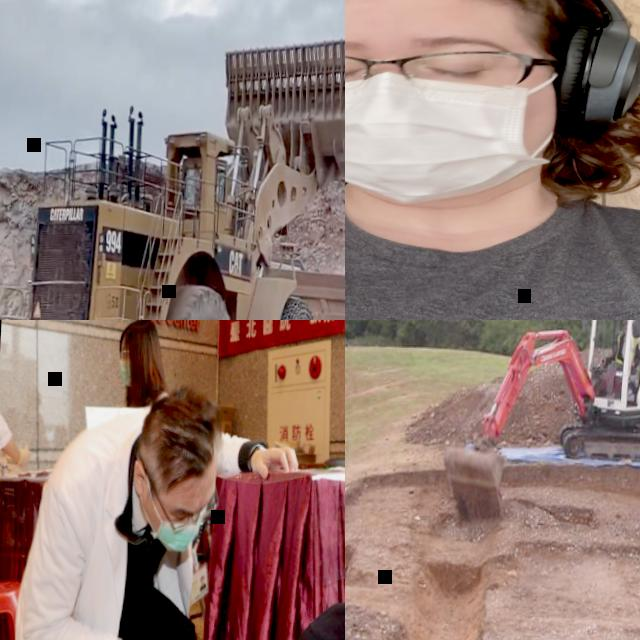Hardhat: (622, 320, 635, 323)
Mask: (345, 61, 561, 205), (156, 520, 205, 553), (116, 359, 134, 385)
NO-Hardhat: (142, 386, 221, 493), (117, 320, 160, 353)
NO-Safety Vest: (345, 170, 640, 320), (59, 401, 173, 640)
Person: (345, 0, 640, 320), (0, 379, 302, 640), (207, 320, 345, 640), (111, 320, 172, 408), (598, 320, 640, 393), (0, 401, 35, 474)
Safety Vest: (615, 328, 640, 367)
vehicle: (0, 6, 345, 320), (436, 320, 640, 537)
